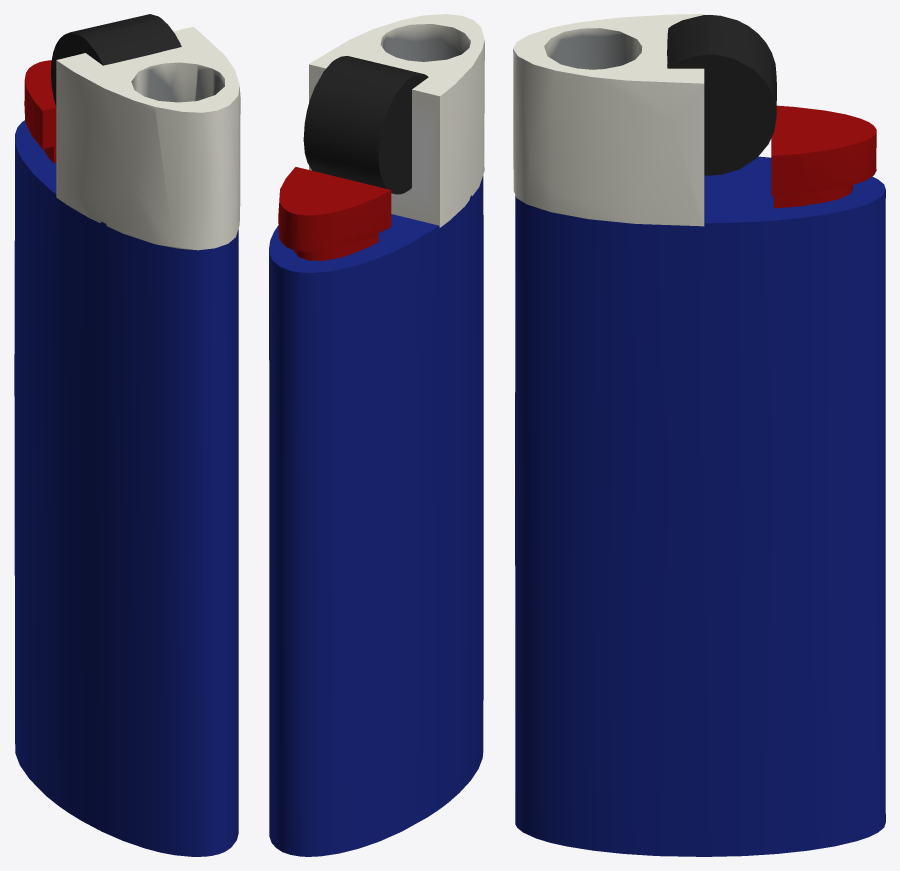
The model's file is Lighter.fbx.
The picture shows the model from 3 angles, left to right: view 1: azimuth 30°, elevation 25°; view 2: azimuth 150°, elevation 25°; view 3: azimuth 270°, elevation 25°; orthographic projection. The views are drawn at different scales.
Visible parts, largest first — view 1: MainBody, FlameGuard; view 2: MainBody, FlameGuard; view 3: MainBody, FlameGuard.
Boxes of the visible parts, x1,y1,x2,y2 form: MainBody: [14, 14, 238, 856]; FlameGuard: [56, 26, 240, 250]; MainBody: [269, 56, 483, 856]; FlameGuard: [309, 14, 484, 227]; MainBody: [515, 14, 885, 856]; FlameGuard: [513, 14, 704, 226].
Bounding box in the file's own units: 1.5 × 7.94 × 3.4.
